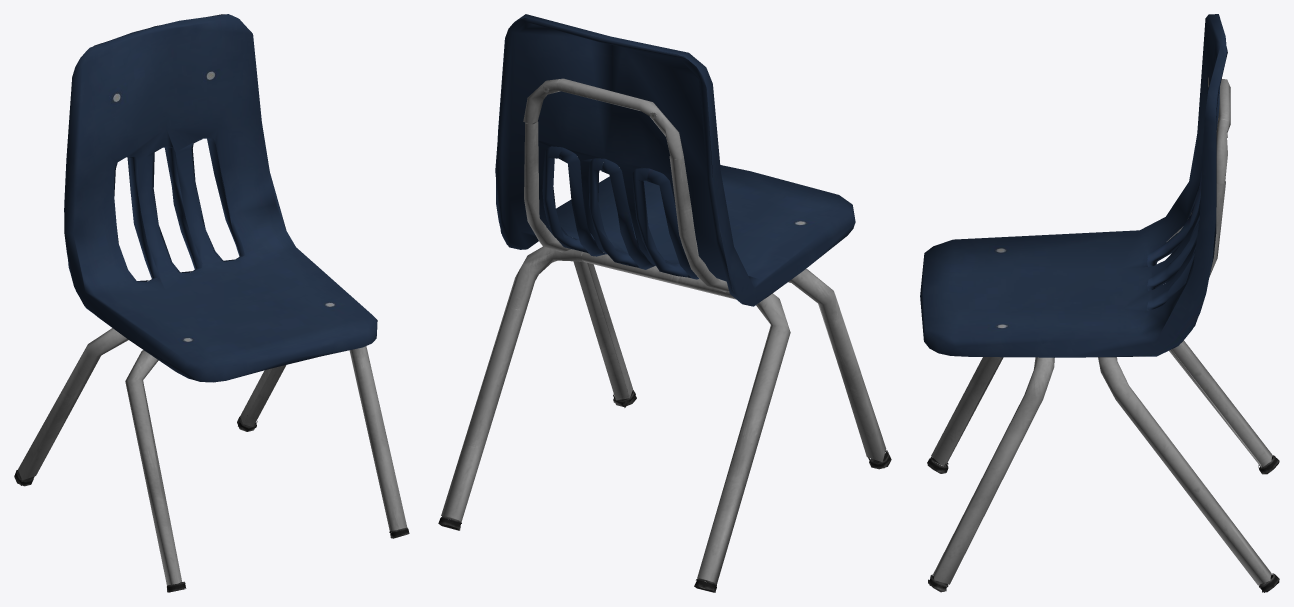
Rendered from SchoolChair_01_leve.gltf.
3 views of the same model, side by side, from view 1: azimuth 30°, elevation 25°; view 2: azimuth 150°, elevation 25°; view 3: azimuth 270°, elevation 25° (orthographic). The views are drawn at different scales.
Visible parts, largest first — view 1: SchoolChair_01; view 2: SchoolChair_01; view 3: SchoolChair_01.
Boxes of the visible parts, bbox=[...] form: SchoolChair_01: bbox=[14, 14, 409, 592]; SchoolChair_01: bbox=[438, 14, 891, 592]; SchoolChair_01: bbox=[920, 14, 1279, 592].
Size of the model in its own units: 0.5668 by 1.01 by 0.6784.
1 material, 1 textured.
